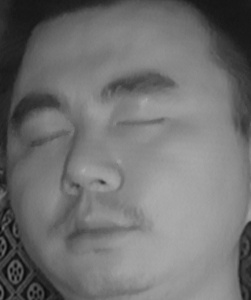blink: (115, 105, 167, 141), (23, 121, 71, 154)
mouth: (55, 202, 143, 263)
